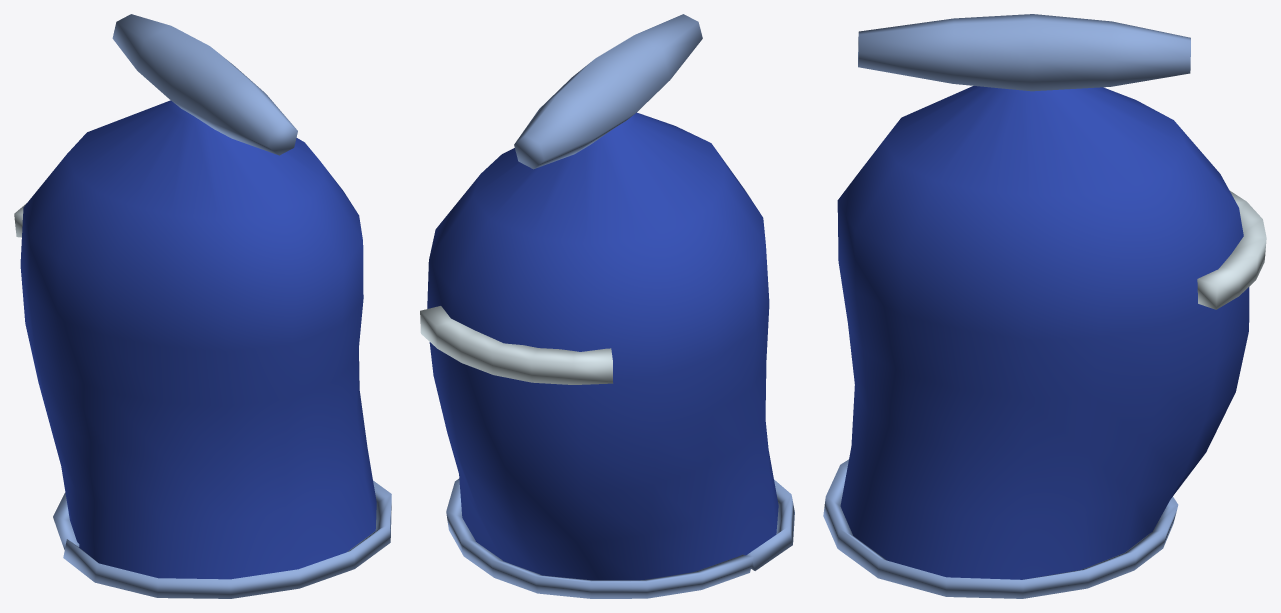
The model's file is stardust_helmet.glb.
3 views of the same model, side by side, from view 1: azimuth 30°, elevation 25°; view 2: azimuth 150°, elevation 25°; view 3: azimuth 270°, elevation 25° (orthographic). The views are drawn at different scales.
Parts seen in each view (by area): view 1: stardust_helmet_head; view 2: stardust_helmet_head; view 3: stardust_helmet_head.
Part boxes in pixels (left/top/right/bottom): stardust_helmet_head: left=14, top=14, right=391, bottom=598; stardust_helmet_head: left=420, top=14, right=794, bottom=598; stardust_helmet_head: left=823, top=14, right=1266, bottom=598.
Bounding box in the file's own units: 0.2317 × 0.3538 × 0.2801.
